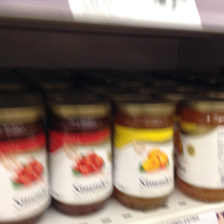jam: (48, 100, 115, 216), (113, 99, 177, 211), (1, 103, 52, 223), (177, 100, 224, 203)
